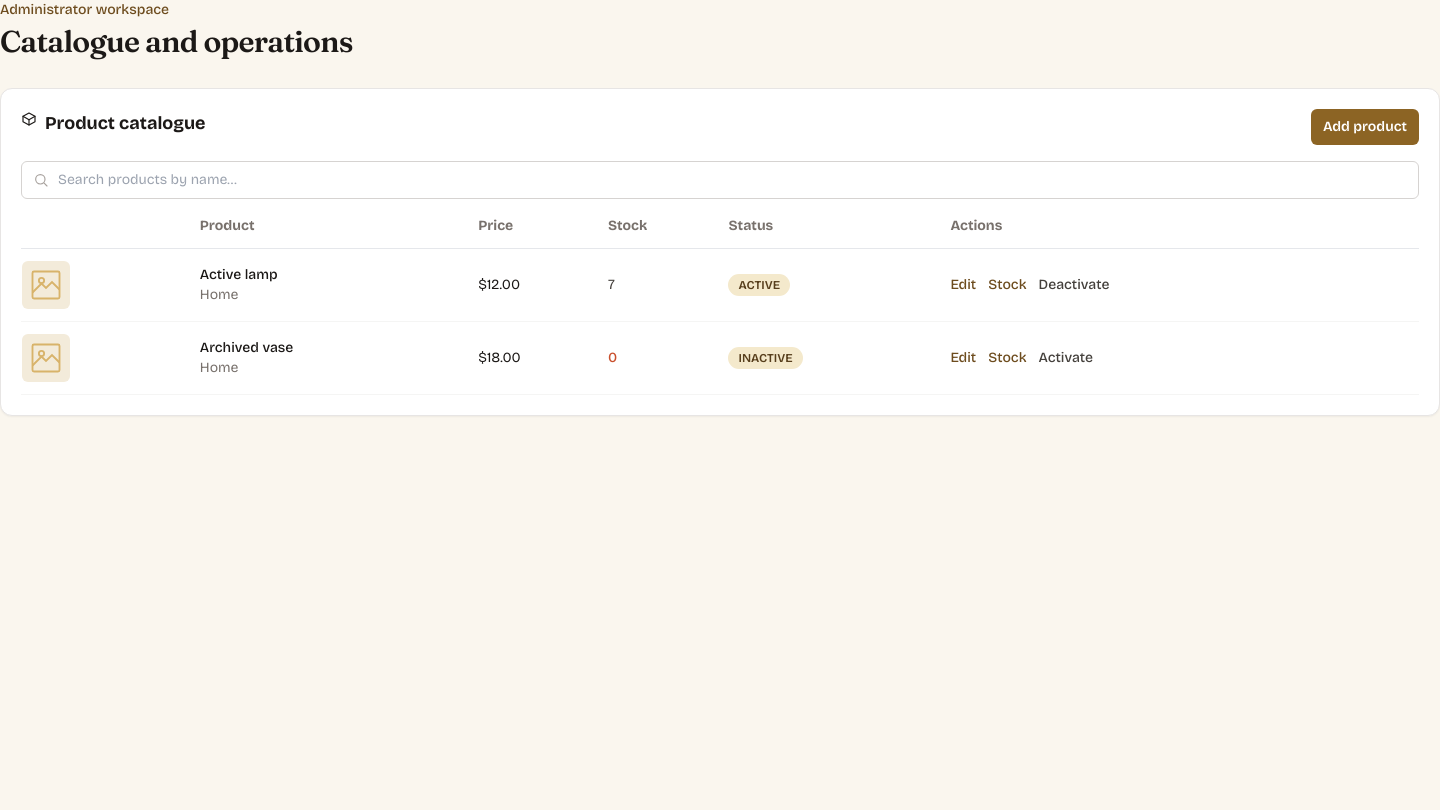
Test: AdminPanel inventory loading › prevents a product form from being submitted twice while saving
Expected: the text "Active lamp" is shown, [200,266,278,283]
Click the button "Add product": (1365, 127) [1311,109,1419,145]
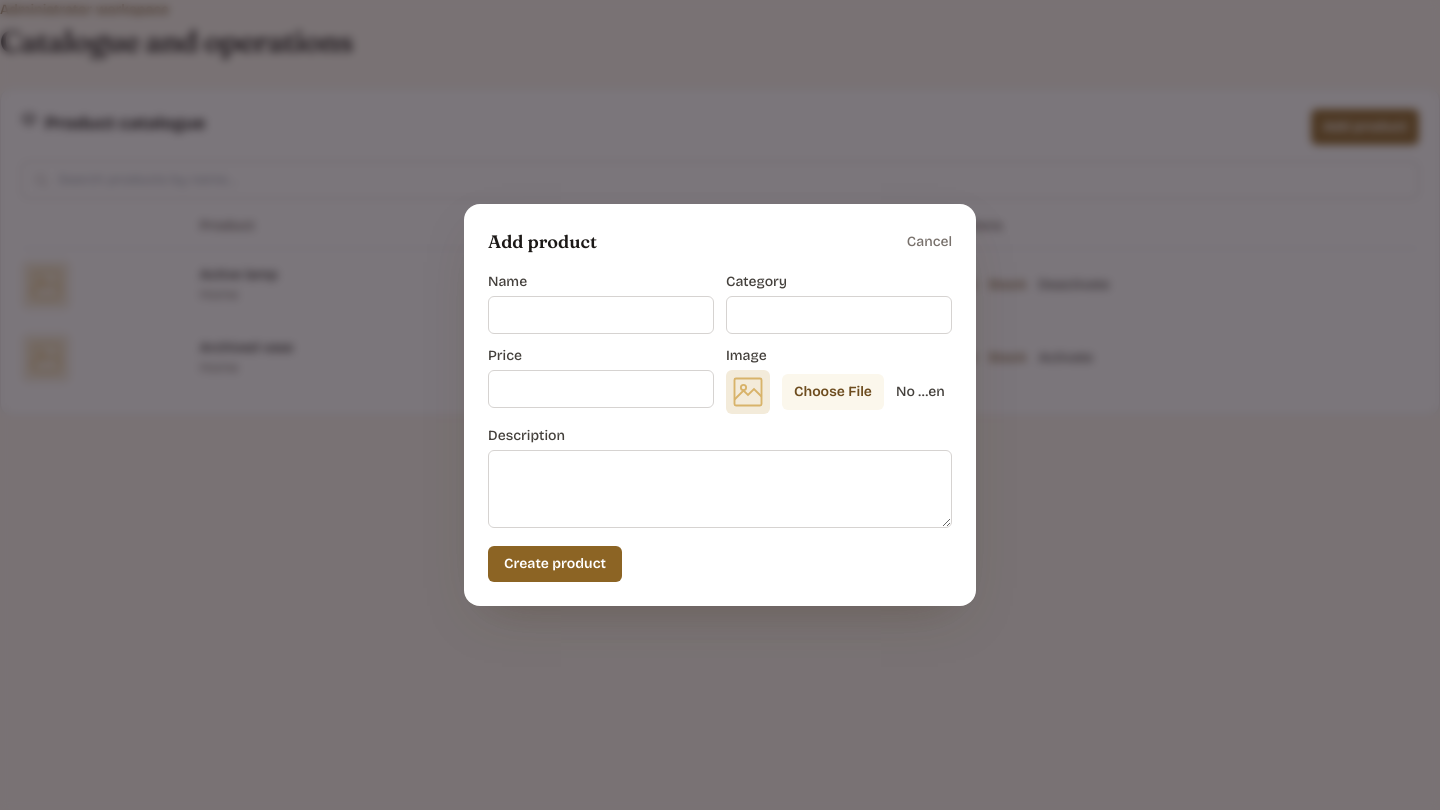
In the field labelled "Name": (601, 315) [488,296,714,334], type "New mug"
In the field labelled "Category": (839, 315) [726,296,952,334], type "Home"
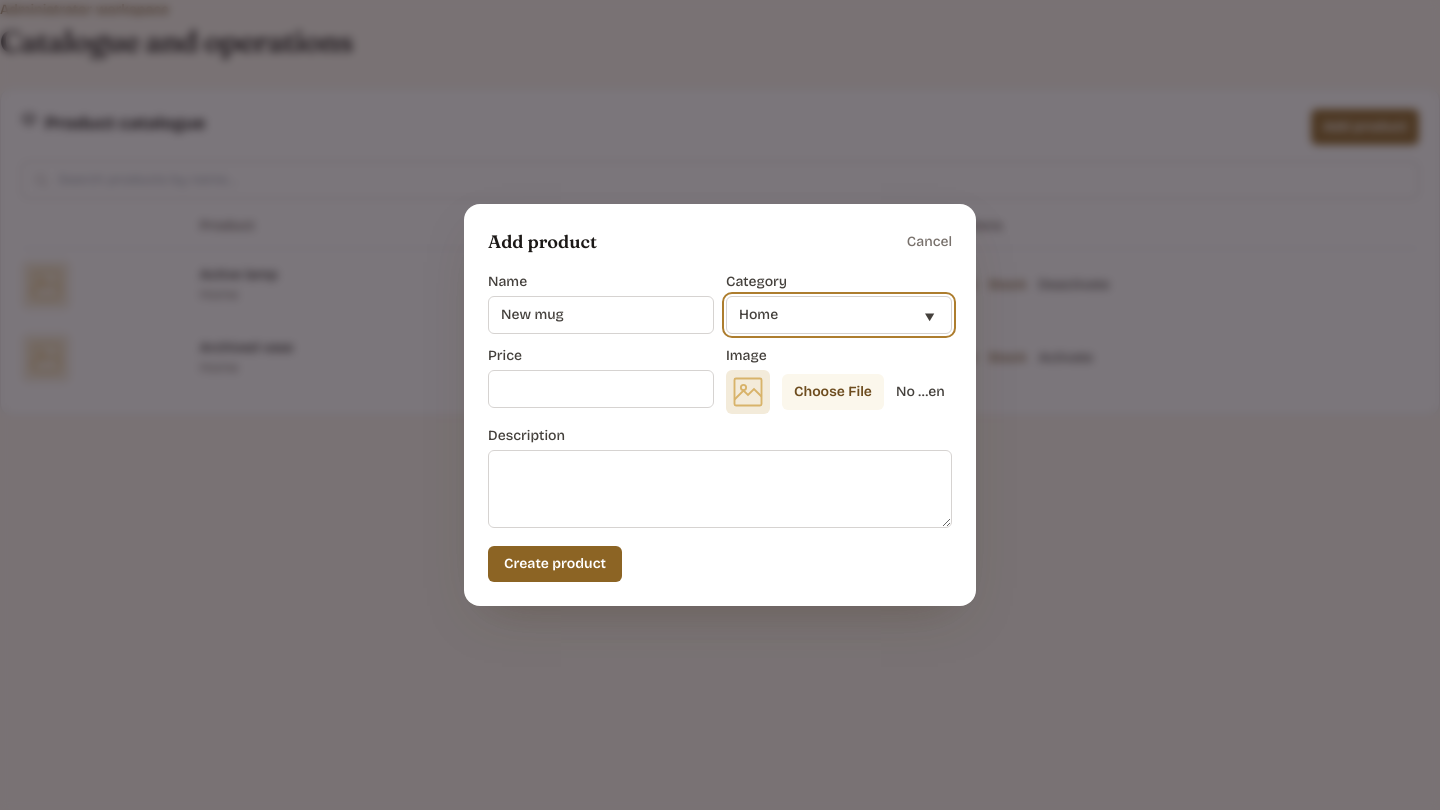
In the number field labelled "Price": (601, 389) [488,370,714,408], type "9.99"
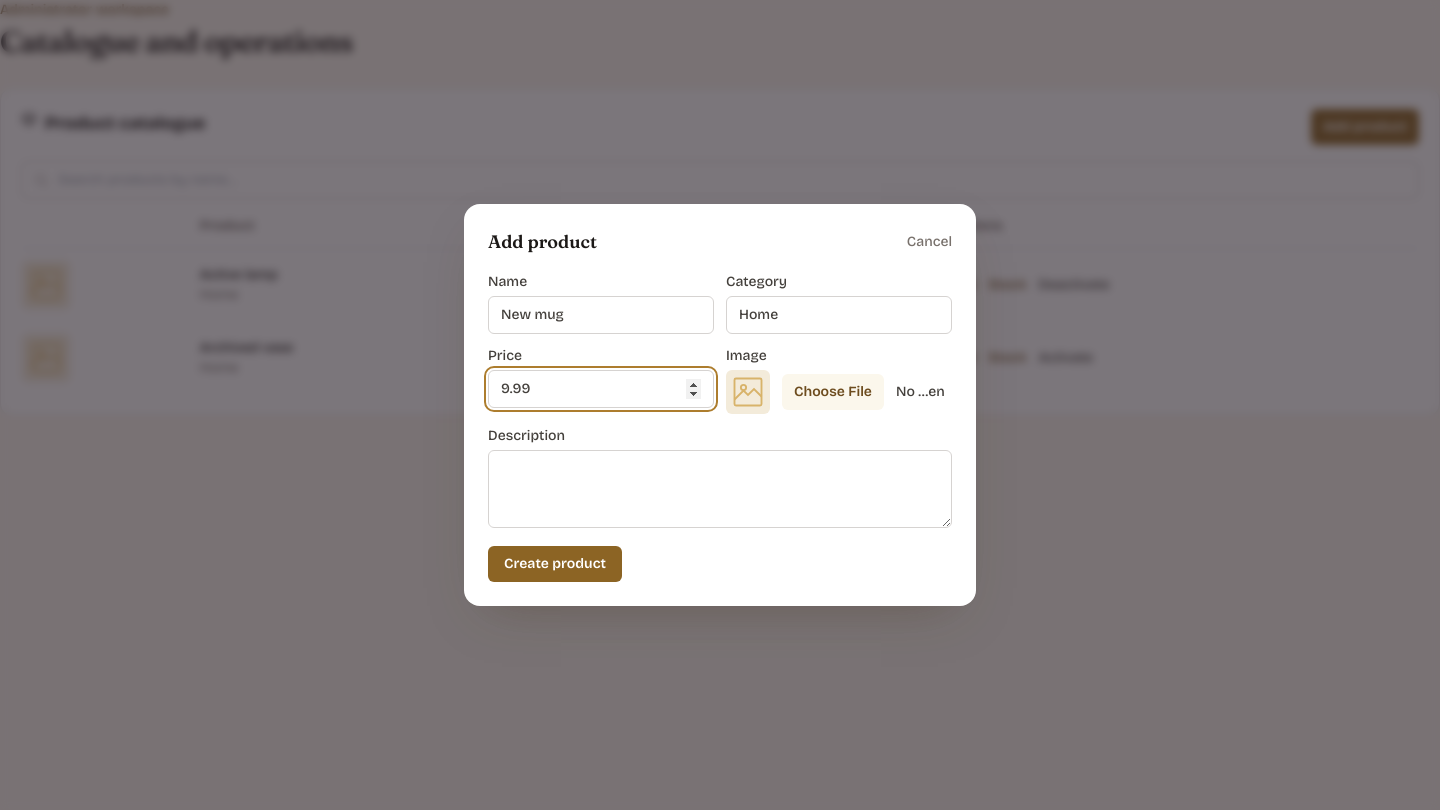
In the text box labelled "Description": (720, 489) [488,450,952,528], type "A new ceramic mug"
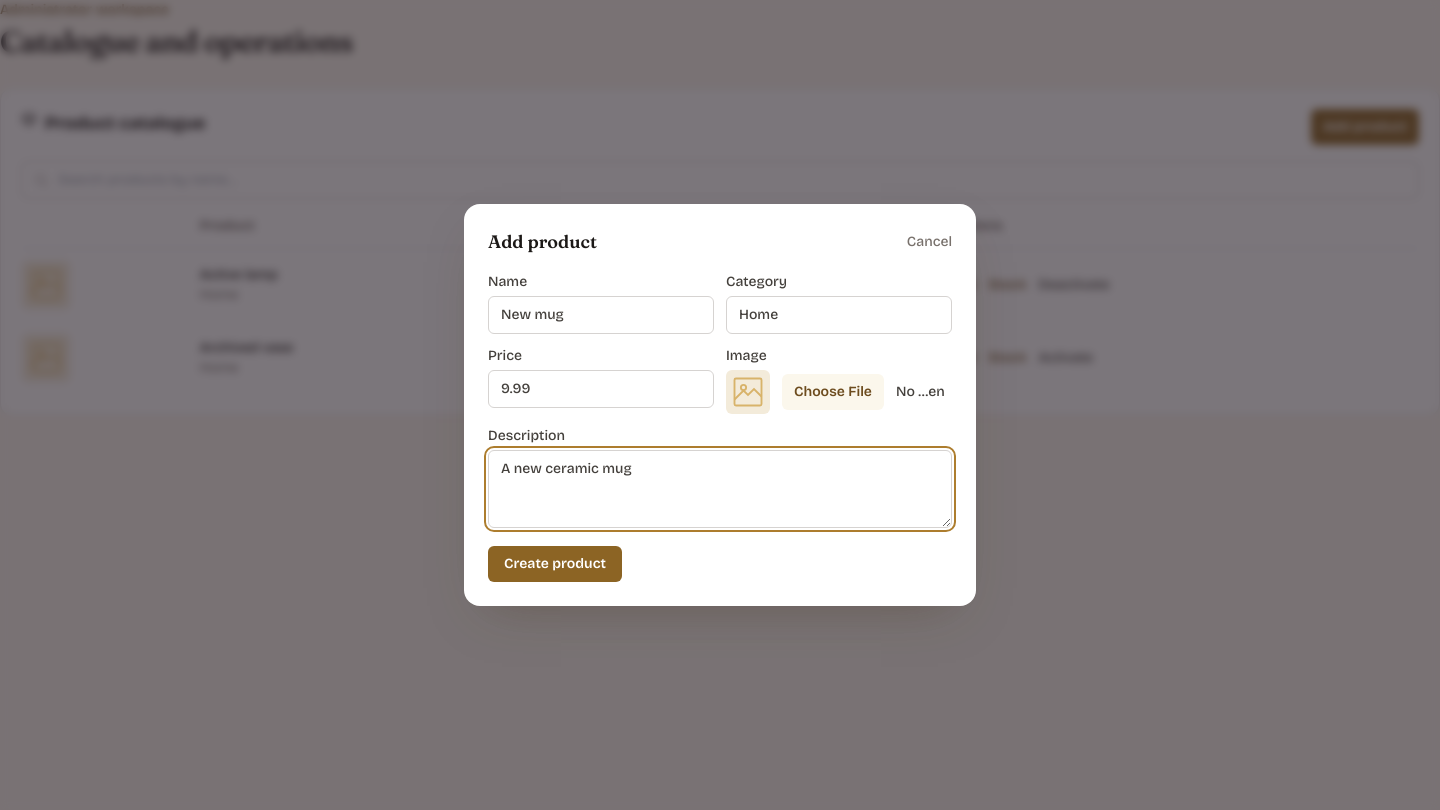
Click the button "Create product": (555, 564) [488,546,622,582]
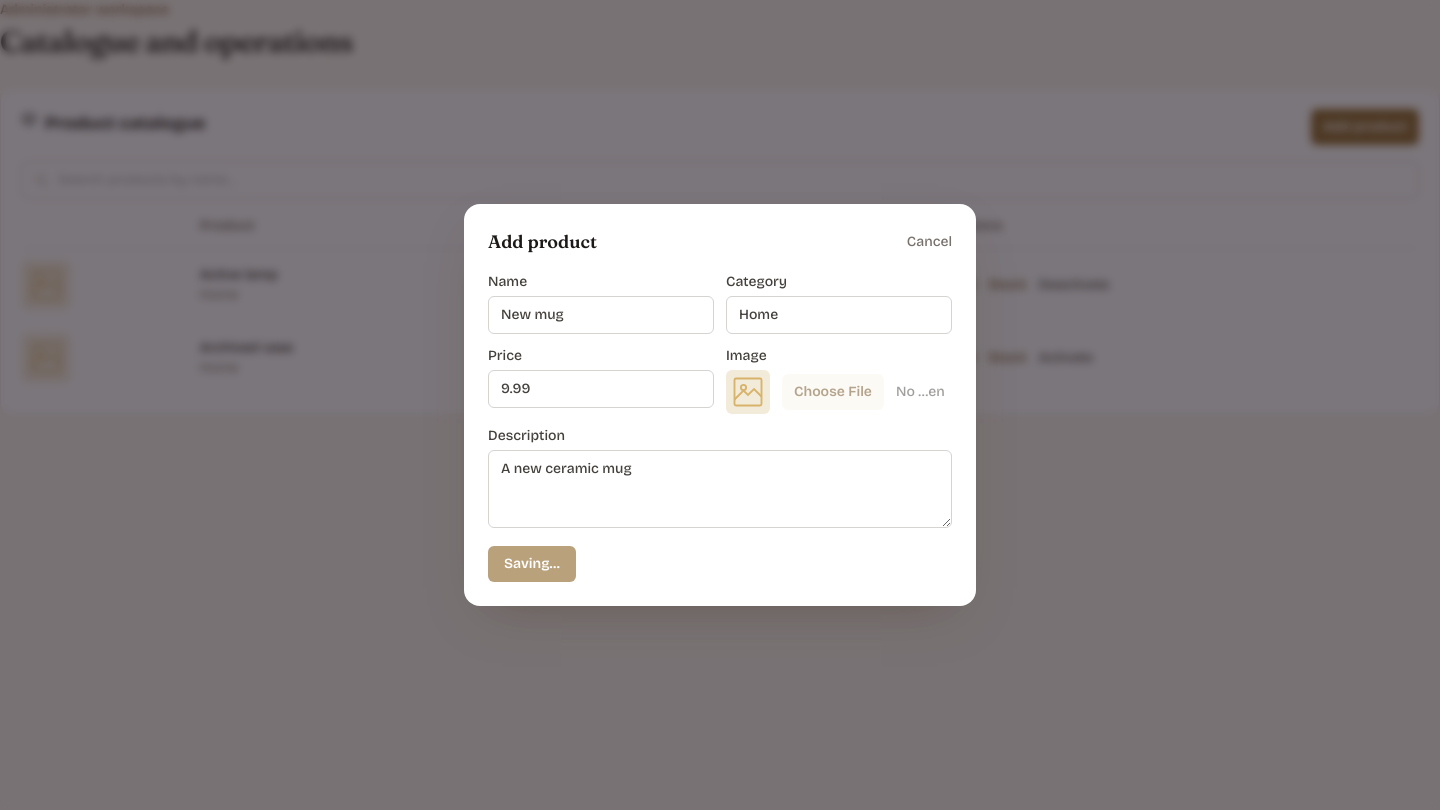
Now the button "Saving…" is disabled
Click the button "Saving…": (532, 564) [488,546,576,582]
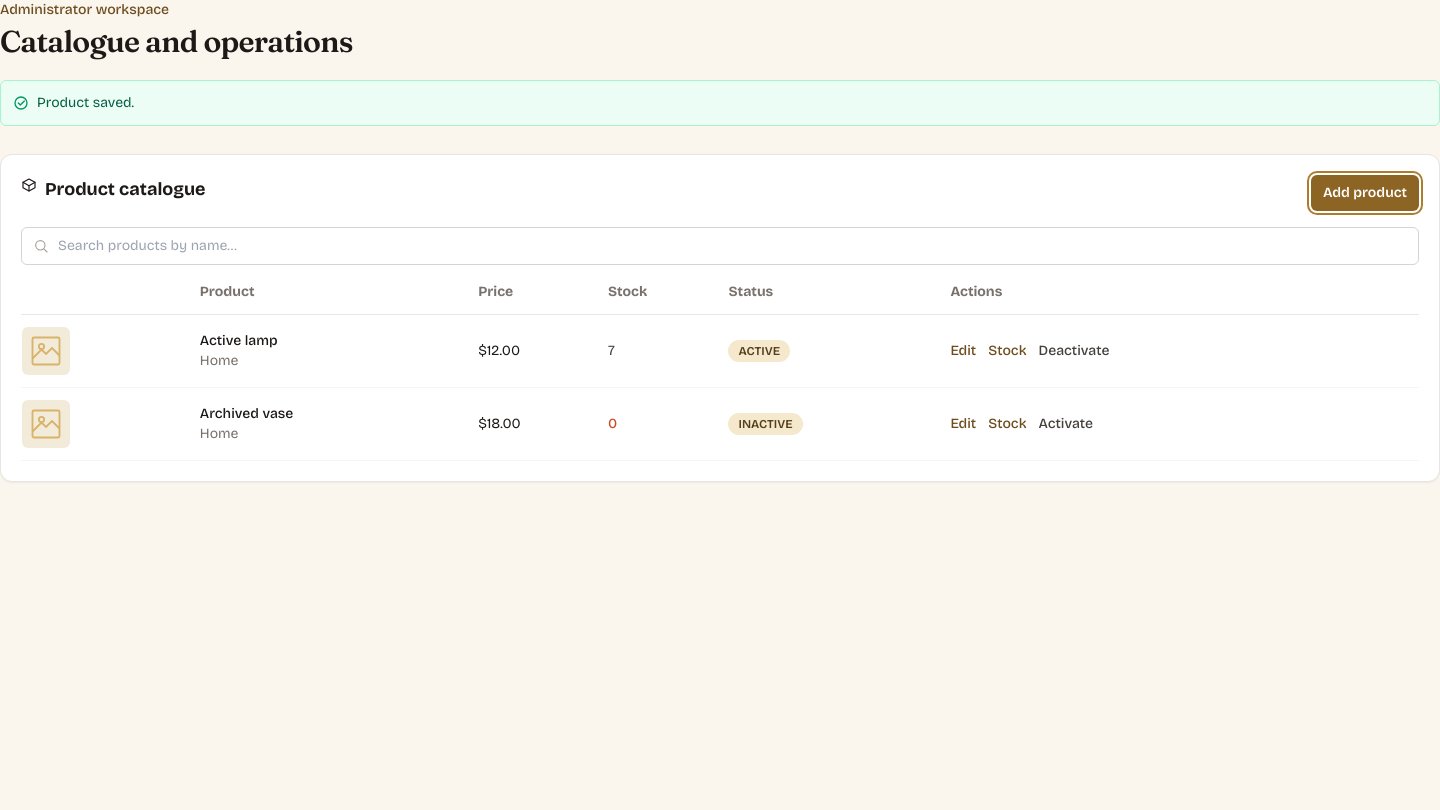
Now the button "Saving…" is gone
